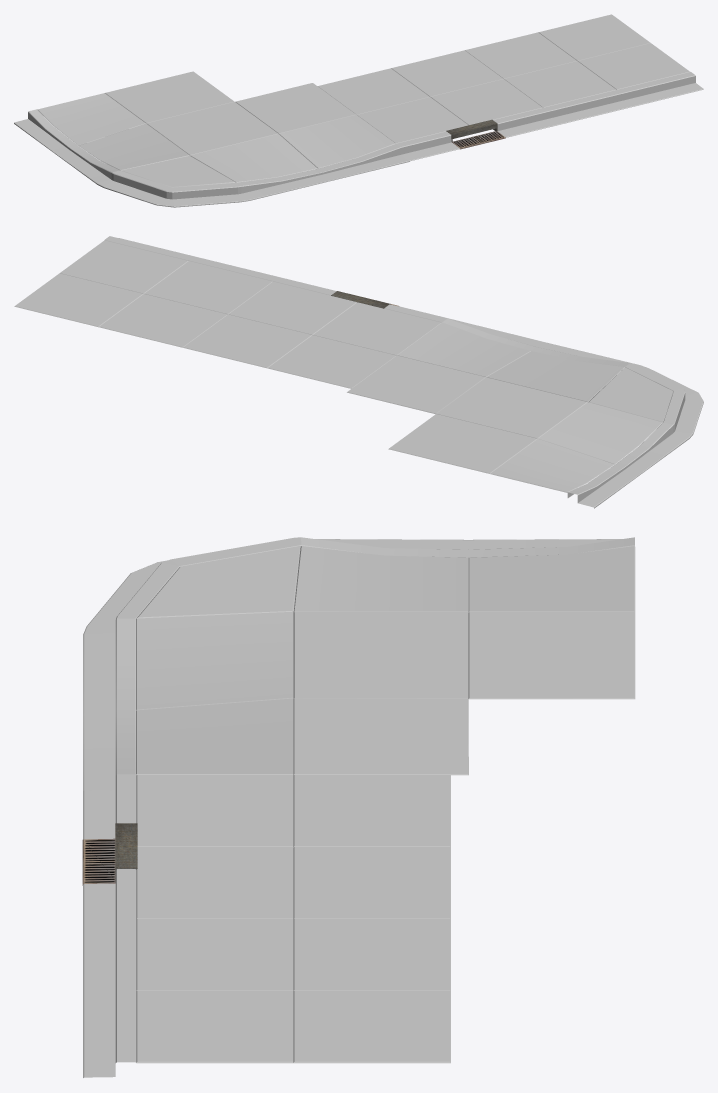
3 views of the same model, one above another, from view 1: azimuth 30°, elevation 25°; view 2: azimuth 150°, elevation 25°; view 3: azimuth 270°, elevation 25° (orthographic). The views are drawn at different scales.
Visible parts, largest first — view 1: pCube15, pCube7, pCube16, polySurface2, pCube2, pCube17, pCube12; view 2: pCube15, pCube7, pCube16, polySurface2, pCube2, pCube17; view 3: pCube15, pCube7, pCube16, polySurface2, pCube2, pCube17, pCube12.
Part boxes in pixels (x1=…): pCube15: x1=37, y1=71, x2=395, y2=187; pCube7: x1=465, y1=14, x2=689, y2=107; pCube16: x1=317, y1=50, x2=542, y2=143; polySurface2: x1=14, y1=109, x2=409, y2=207; pCube2: x1=543, y1=72, x2=703, y2=125; pCube17: x1=396, y1=108, x2=556, y2=161; pCube12: x1=446, y1=119, x2=505, y2=149; pCube15: x1=347, y1=322, x2=673, y2=492; pCube7: x1=14, y1=240, x2=272, y2=347; pCube16: x1=183, y1=281, x2=441, y2=388; polySurface2: x1=442, y1=318, x2=703, y2=508; pCube2: x1=104, y1=236, x2=287, y2=281; pCube17: x1=273, y1=277, x2=456, y2=322; pCube15: x1=136, y1=546, x2=635, y2=775; pCube7: x1=136, y1=918, x2=450, y2=1063; pCube16: x1=136, y1=775, x2=450, y2=918; polySurface2: x1=83, y1=537, x2=634, y2=790; pCube2: x1=83, y1=918, x2=136, y2=1077; pCube17: x1=83, y1=774, x2=136, y2=934; pCube12: x1=82, y1=823, x2=137, y2=885.
Size of the model in its own units: 47.44 by 0.7437 by 20.56.
